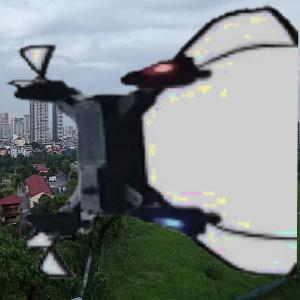drone: (2, 3, 299, 300)
